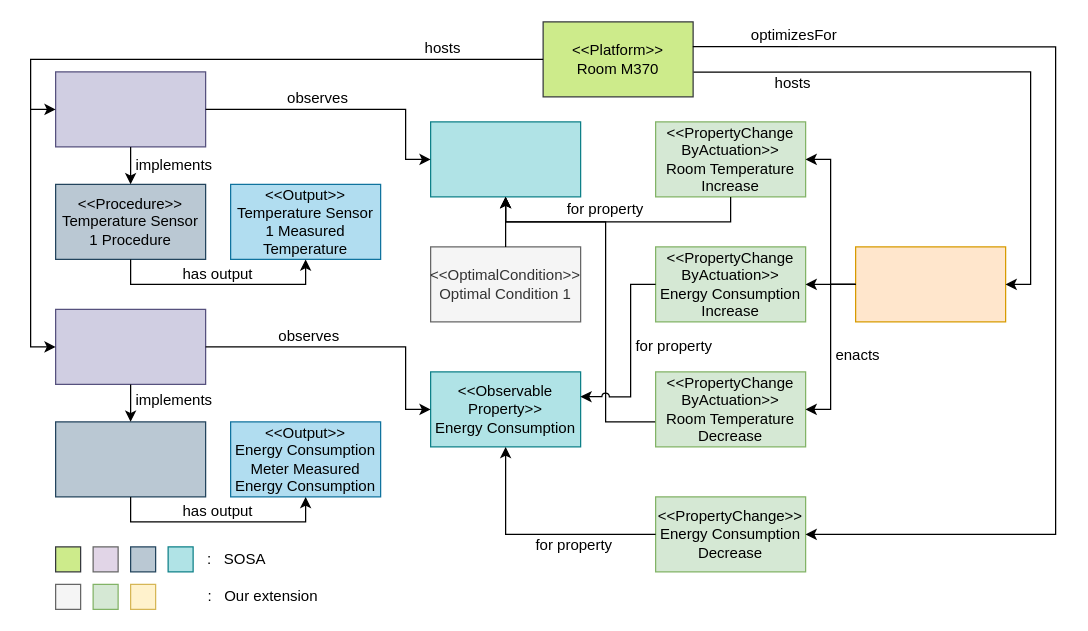
Image size: 1088x631. Some labels were removed from this diagram. The centre of each missing label's shape, as x and y in pixels:
<<Actuator>> Air Conditioning Unit: pixel 930 284
<<Observable Property>> Room Temperature: pixel 505 159
<<Procedure>> Energy Consumption Meter Procedure: pixel 130 459
<<Sensor>> Energy Consumption Meter: pixel 130 346
<<Sensor>> Temperature Sensor 1: pixel 130 109
